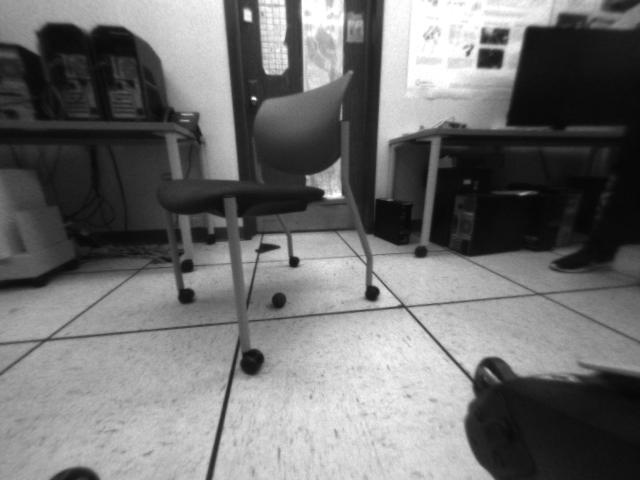dogtoy: (262, 286, 292, 313)
